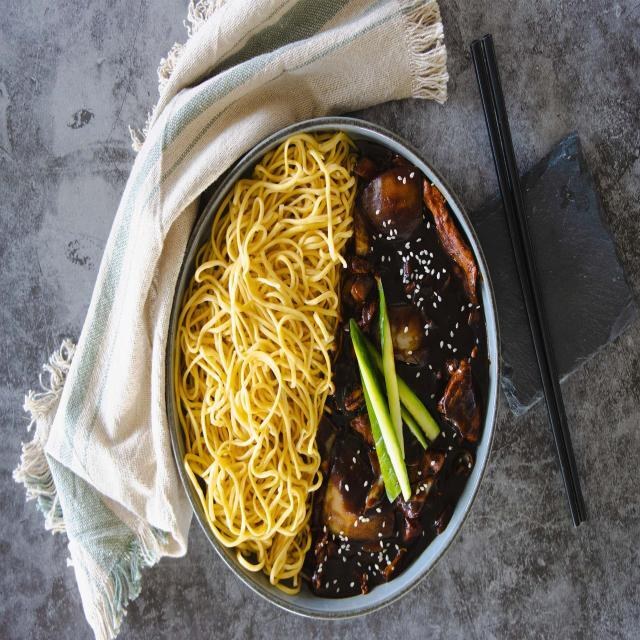cac loai rau cu: (352, 276, 441, 507)
mi jajangmyeon: (173, 139, 351, 586)
mi tuong den Jajangmyeon: (170, 123, 491, 599)
sot tuong den: (359, 143, 486, 589)
